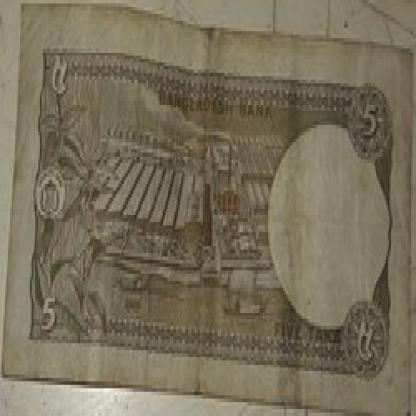Five Taka: (352, 309, 378, 364), (48, 48, 70, 108), (358, 94, 379, 149), (38, 291, 58, 347)
